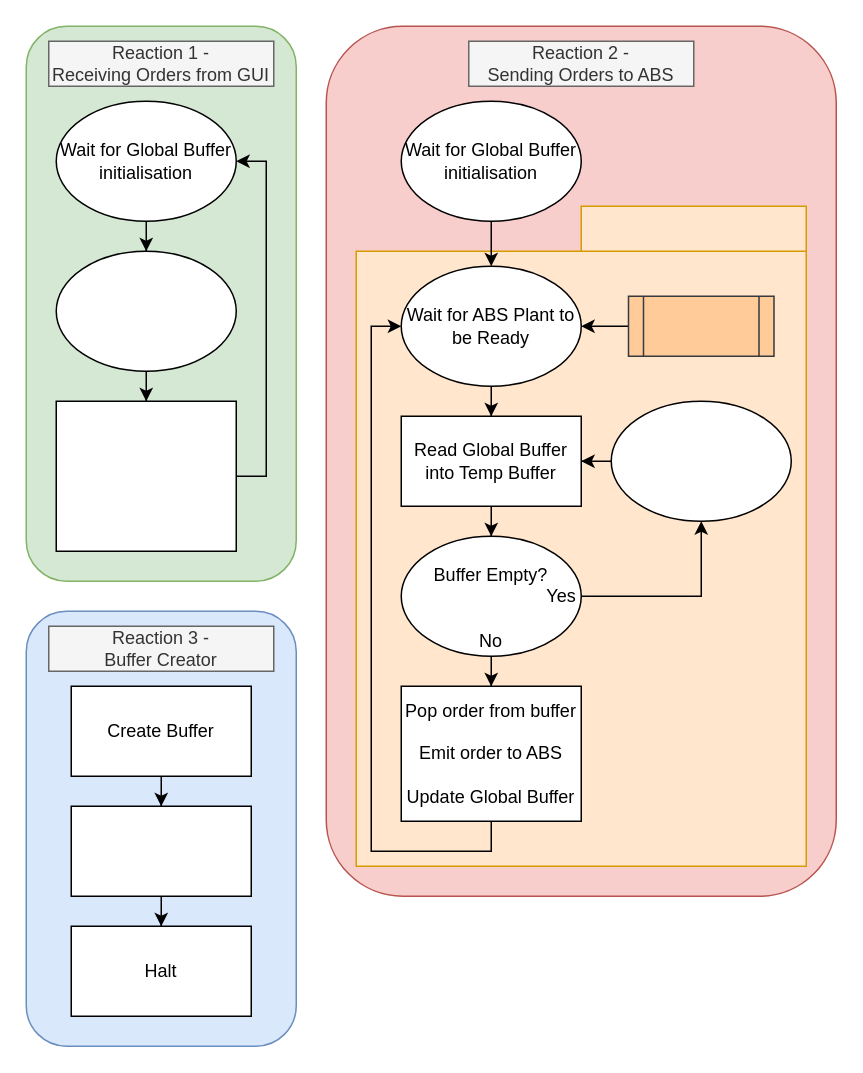
The diagram is 863 pixels wide and 1073 high, and some of its shapes have lost their labels. Each missing label, with the box of its shape:
Emit buffer as signal: (70, 805, 251, 896)
FAULT OCCURED: (627, 295, 774, 356)
Read new order Add new order to temp buffer Update global buffer: (55, 400, 236, 551)
Trapping ABS FAULT: (580, 205, 806, 251)
Wait for Global Buffer to be updated: (610, 400, 791, 521)
Wait for new order: (55, 250, 236, 371)
